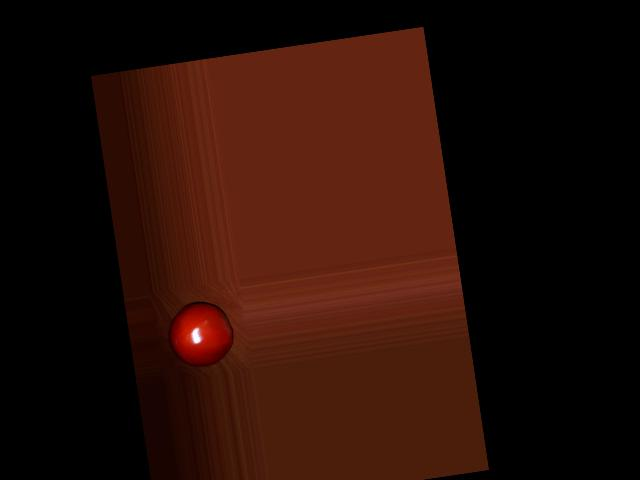tomato: (163, 298, 237, 372)
